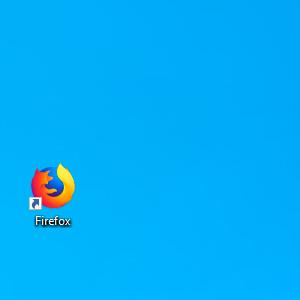firefox: (28, 162, 76, 211)
